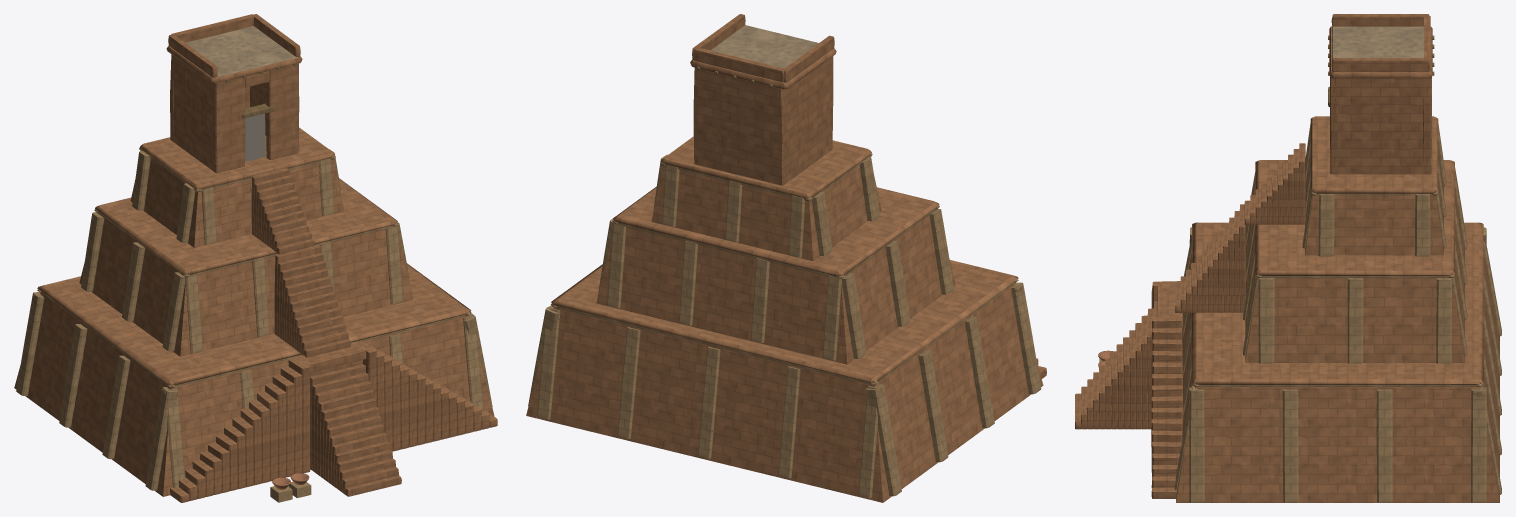
File: ziggurat.glb
3 renders of one model, left to right at view 1: azimuth 30°, elevation 25°; view 2: azimuth 150°, elevation 25°; view 3: azimuth 270°, elevation 25°, orthographic. The views are drawn at different scales.
Visible parts, largest first — view 1: original-ziggurat-game-fired-brick-facing, original-ziggurat-game-raw-brick-facing, original-ziggurat-alluvial-earth, original-ziggurat-game-door-shadow; view 2: original-ziggurat-game-fired-brick-facing, original-ziggurat-game-raw-brick-facing, original-ziggurat-alluvial-earth; view 3: original-ziggurat-game-fired-brick-facing, original-ziggurat-game-raw-brick-facing, original-ziggurat-alluvial-earth.
Boxes of the visible parts, left/top/right/bottom form: original-ziggurat-game-fired-brick-facing: left=14, top=14, right=497, bottom=502; original-ziggurat-game-raw-brick-facing: left=16, top=148, right=492, bottom=502; original-ziggurat-alluvial-earth: left=185, top=26, right=298, bottom=77; original-ziggurat-game-door-shadow: left=245, top=113, right=265, bottom=161; original-ziggurat-game-fired-brick-facing: left=526, top=14, right=1046, bottom=502; original-ziggurat-game-raw-brick-facing: left=528, top=153, right=1041, bottom=497; original-ziggurat-alluvial-earth: left=694, top=25, right=818, bottom=82; original-ziggurat-game-fired-brick-facing: left=1075, top=14, right=1499, bottom=502; original-ziggurat-game-raw-brick-facing: left=1099, top=123, right=1501, bottom=502; original-ziggurat-alluvial-earth: left=1332, top=26, right=1423, bottom=70.
Size of the model in its own units: 11.13 by 10.8 by 11.07.
Materials: 7 (5 with a texture image).
